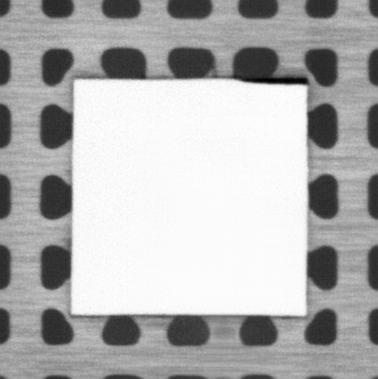DIE_BROKEN: (235, 74, 310, 86)
